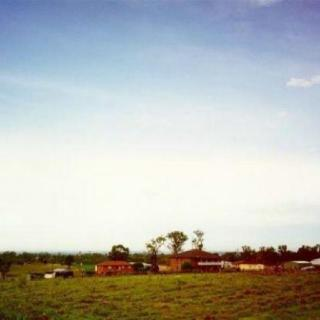Cirrostratus: (0, 51, 320, 227)
